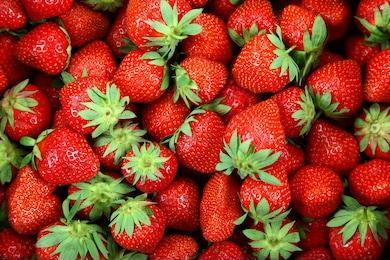Fresa: (221, 91, 289, 176), (30, 124, 101, 191), (5, 161, 65, 239), (57, 72, 126, 137), (229, 30, 297, 95), (169, 105, 230, 175), (301, 116, 365, 180), (305, 55, 368, 119), (108, 192, 170, 257), (111, 47, 171, 106), (12, 18, 72, 76), (239, 160, 295, 222), (117, 139, 178, 193), (174, 53, 236, 105)
